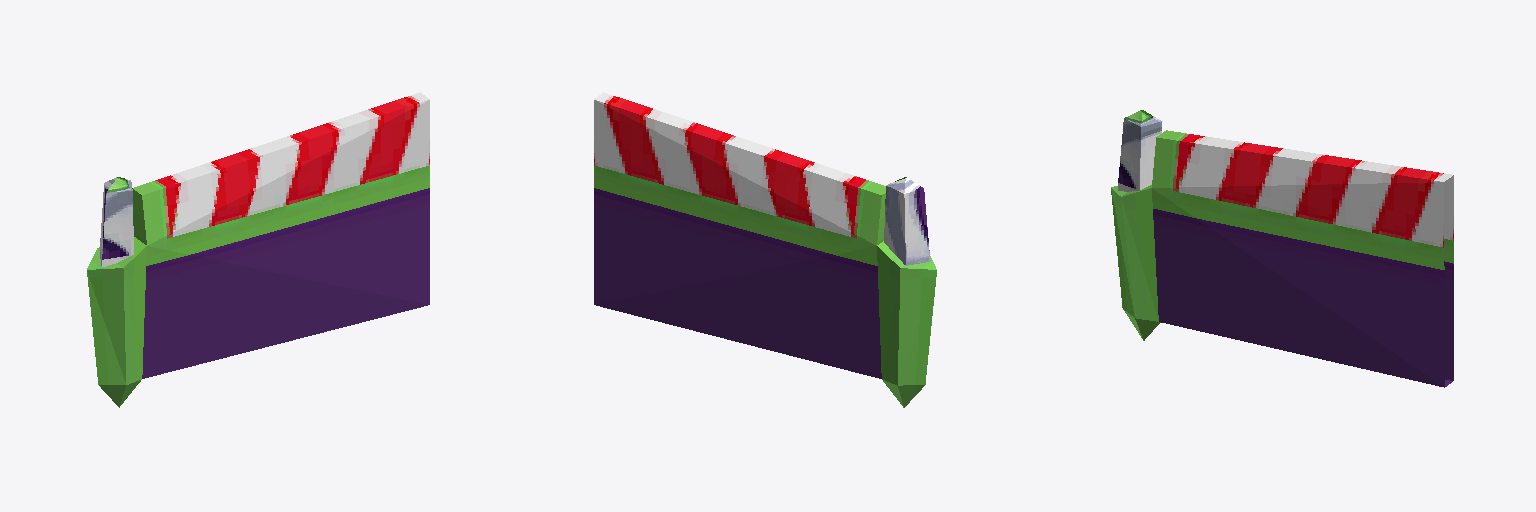
The picture shows the model from 3 angles: view 1: azimuth 30°, elevation 25°; view 2: azimuth 150°, elevation 25°; view 3: azimuth 330°, elevation 25°; orthographic projection.
Parts seen in each view (by area): view 1: buzzlightyRightWing2_buzzlighty.003; view 2: buzzlightyRightWing2_buzzlighty.003; view 3: buzzlightyRightWing2_buzzlighty.003.
Boxes of the visible parts, <box> form: buzzlightyRightWing2_buzzlighty.003: <box>87,92,429,407</box>; buzzlightyRightWing2_buzzlighty.003: <box>594,92,936,407</box>; buzzlightyRightWing2_buzzlighty.003: <box>1111,110,1453,387</box>.
Size of the model in its own units: 0.25 by 0.1677 by 0.0338.
Materials: 1 (1 with a texture image).